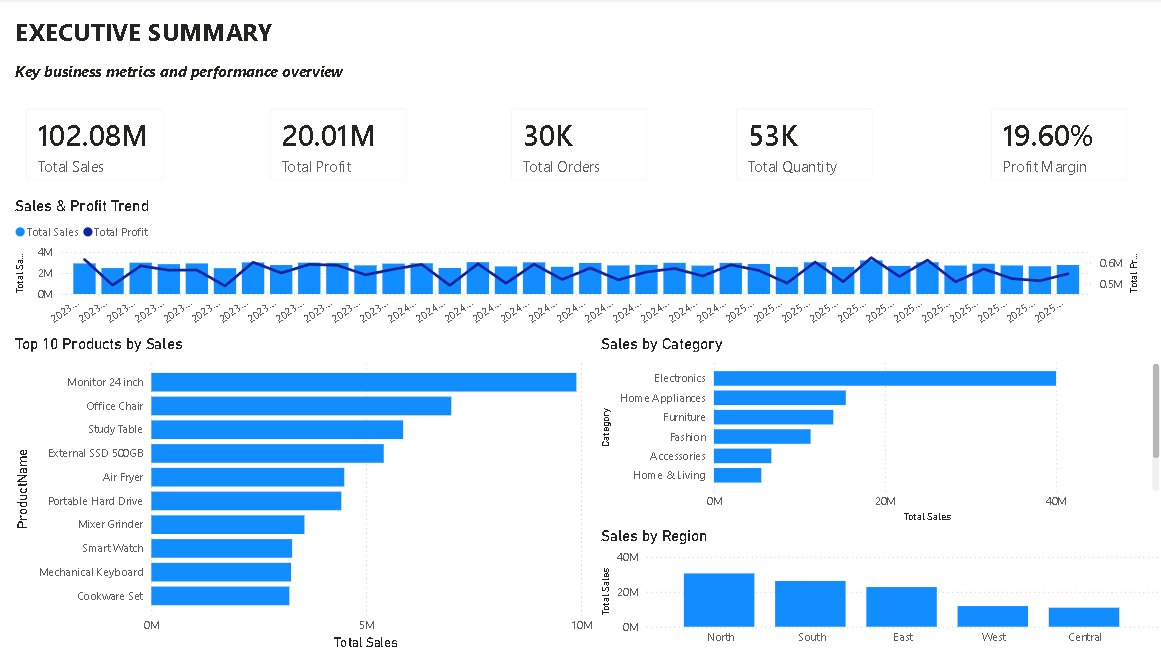

The page's visual inventory and layout, read from the dashboard file:
{"tool":"powerbi","page":{"name":"Executive Summary","canvas":[1280,720],"ordinal":3},"visuals":[{"type":"textbox","box":[13.7,13.7,369.1,49.4],"z":0},{"type":"textbox","box":[13.7,63.1,403.4,41.2],"z":1000},{"type":"cardVisual","fields":{"Data":["DimCustomer.Total Sales"]},"box":[13.7,104.3,185.2,113.9],"z":2000},{"type":"cardVisual","fields":{"Data":["DimCustomer.Total Profit"]},"box":[281.3,104.3,185.2,113.9],"z":3000},{"type":"cardVisual","fields":{"Data":["DimCustomer.Total Orders"]},"box":[546.1,104.3,185.2,113.9],"z":4000},{"type":"cardVisual","fields":{"Data":["DimCustomer.Total Quantity"]},"box":[793.1,104.3,185.2,113.9],"z":5000},{"type":"cardVisual","fields":{"Data":["DimCustomer.Profit Margin"]},"box":[1073.1,104.3,185.2,113.9],"z":6000},{"type":"lineClusteredColumnComboChart","title":"Sales & Profit Trend","fields":{"Category":["DimDate.Year Month"],"Y":["DimCustomer.Total Sales"],"Y2":["DimCustomer.Total Profit"]},"box":[13.7,218.2,1244.6,150.9],"z":7000},{"type":"clusteredBarChart","title":"Sales by Category","fields":{"Category":["DimProduct.Category"],"Y":["DimCustomer.Total Sales"]},"box":[657.3,369.1,623,211.3],"z":8000},{"type":"clusteredColumnChart","title":"Sales by Region","fields":{"Category":["DimLocation.Region"],"Y":["DimCustomer.Total Sales"]},"box":[657.3,580.4,621.6,140],"z":8001},{"type":"clusteredBarChart","title":"Top 10 Products by Sales","fields":{"Category":["DimProduct.ProductName"],"Y":["DimCustomer.Total Sales"]},"box":[13.7,369.1,643.6,351.3],"z":8002}]}

Visuals, with their boxes in screenshot pixels (x1, y1, x2, y2), scaled from the page's 1280x720 canvas onto the 1161x651 screenshot:
textbox: Rect(12, 12, 347, 57)
textbox: Rect(12, 57, 378, 94)
cardVisual - DimCustomer.Total Sales: Rect(12, 94, 180, 197)
cardVisual - DimCustomer.Total Profit: Rect(255, 94, 423, 197)
cardVisual - DimCustomer.Total Orders: Rect(495, 94, 663, 197)
cardVisual - DimCustomer.Total Quantity: Rect(719, 94, 887, 197)
cardVisual - DimCustomer.Profit Margin: Rect(973, 94, 1141, 197)
"Sales & Profit Trend" lineClusteredColumnComboChart: Rect(12, 197, 1141, 334)
"Sales by Category" clusteredBarChart: Rect(596, 334, 1160, 525)
"Sales by Region" clusteredColumnChart: Rect(596, 525, 1160, 650)
"Top 10 Products by Sales" clusteredBarChart: Rect(12, 334, 596, 650)
